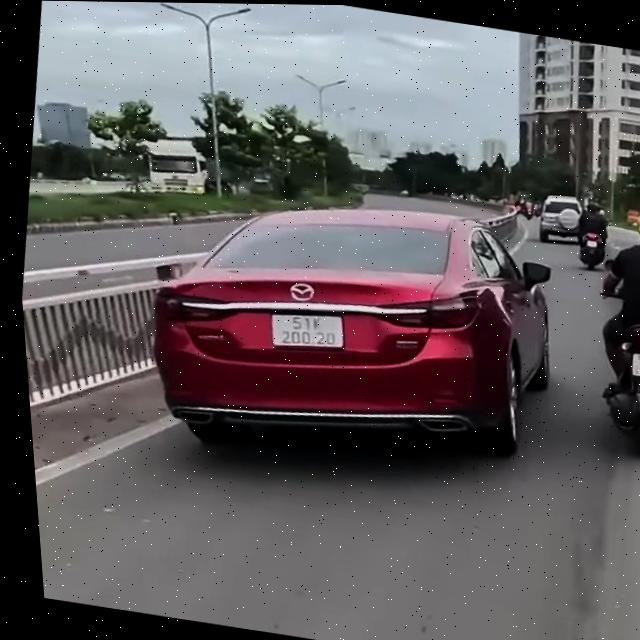car: (126, 167, 585, 498), (526, 190, 589, 249)
motorcycle: (589, 303, 640, 463), (569, 222, 610, 273)
plate: (259, 298, 355, 362)
